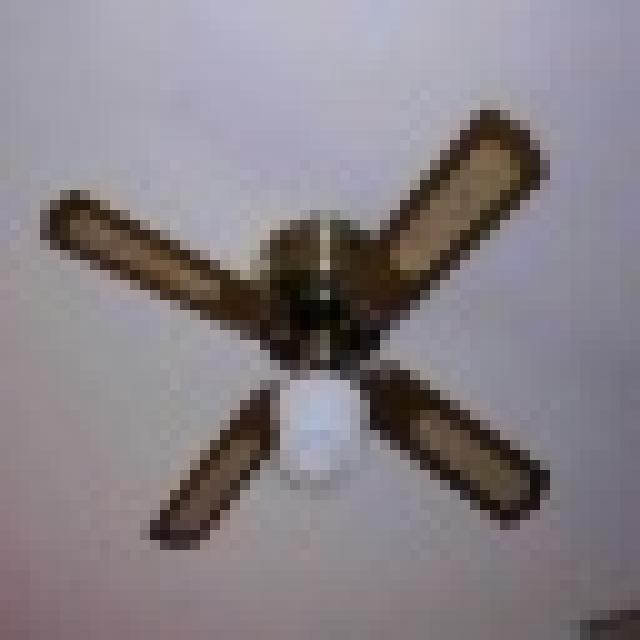Bulb: (23, 133, 616, 548)
